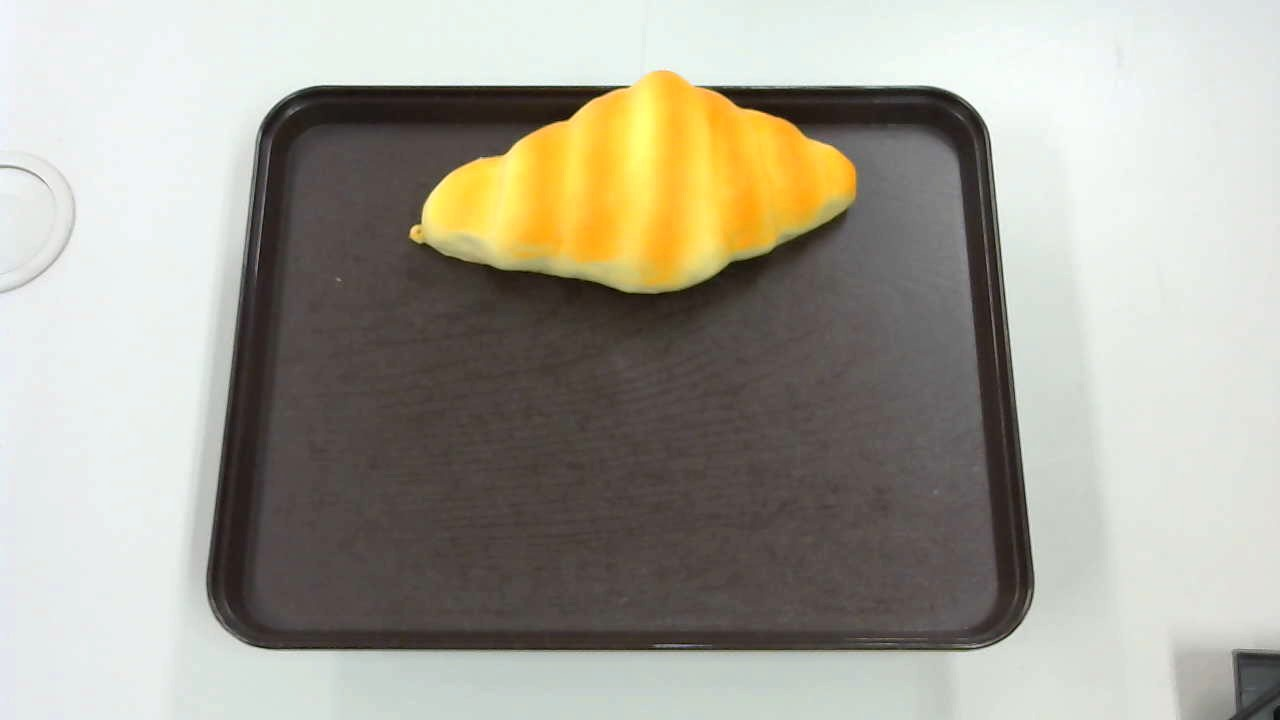croissant: (409, 70, 857, 294)
